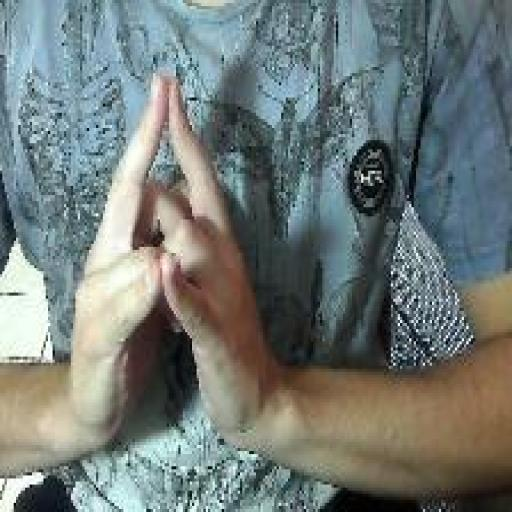Tori -bird-: (68, 68, 270, 464)
